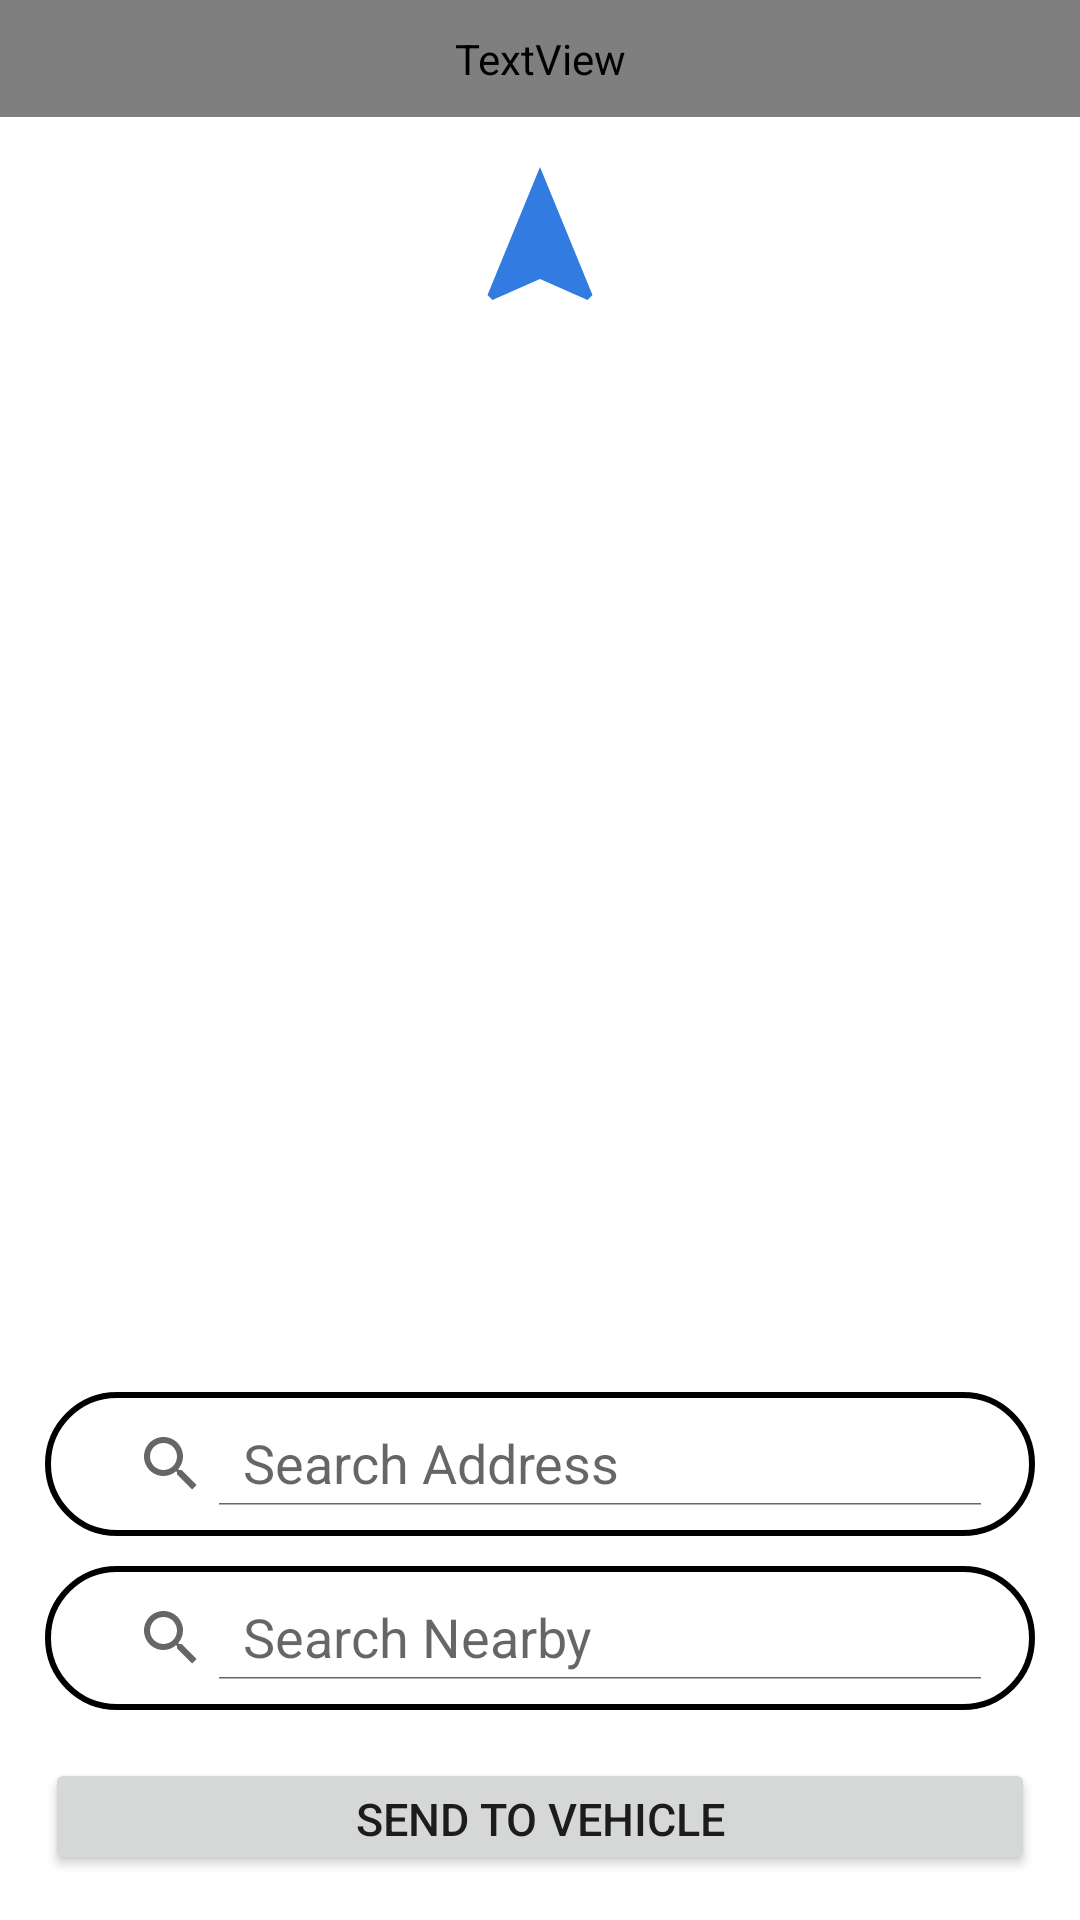

Named icons in this screenshot (1080×1920) and their bounding boxes, (x1, y1, x2, y2):
Navigation: (487, 167, 593, 300)
